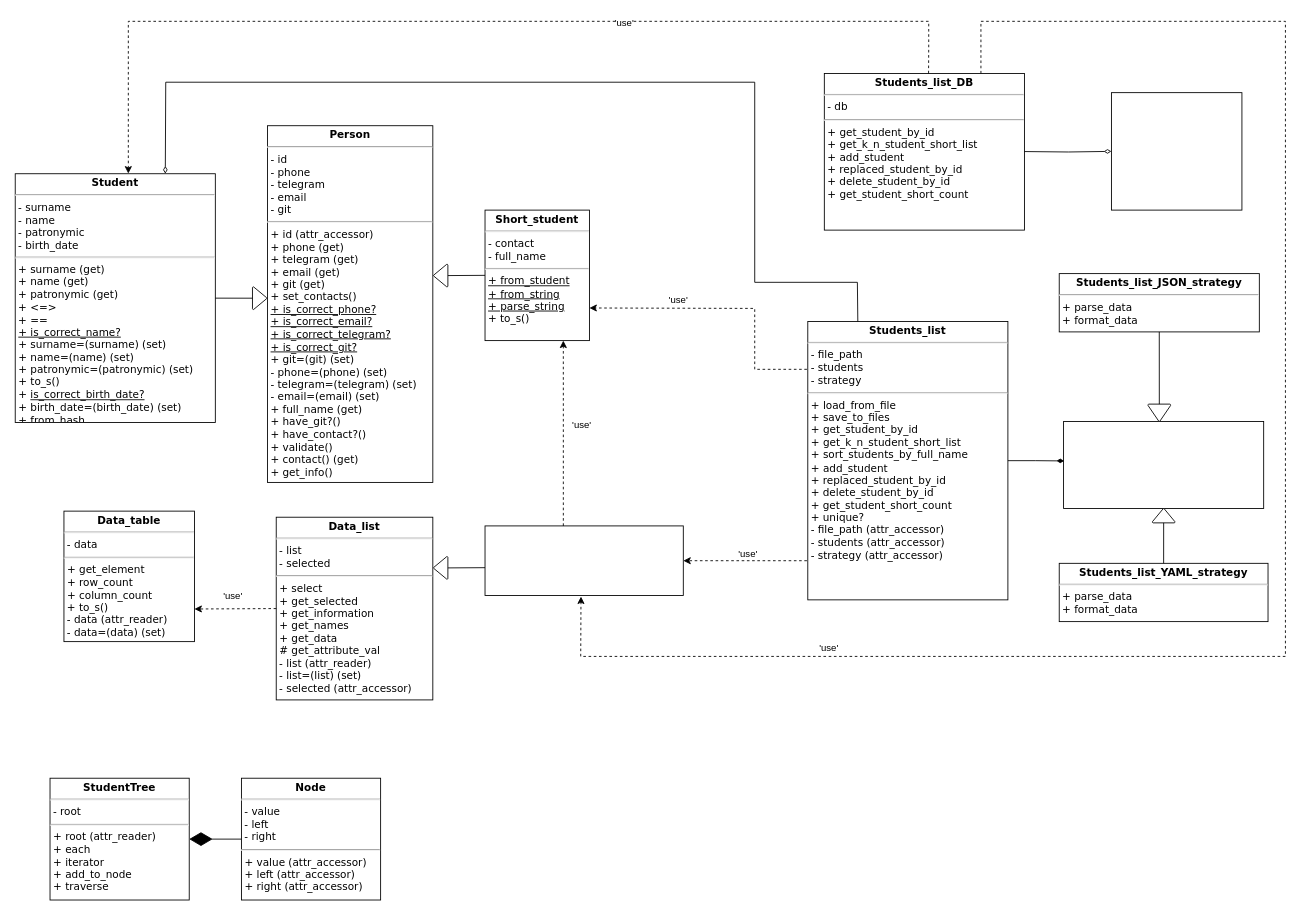
This 1308x915 diagram has some shape labels left out. Here are the shapes that lost their labels. From the top down, the centre of each, then its label:
At point 1176,151: "Connection - db - instance - new + instance + exec + close".
At point 1163,465: "Students_list_strategy + parse_data + format_data + create_student_from_hash".
At point 583,560: "Data_list_student_short + get_names - get_attribute_val".
